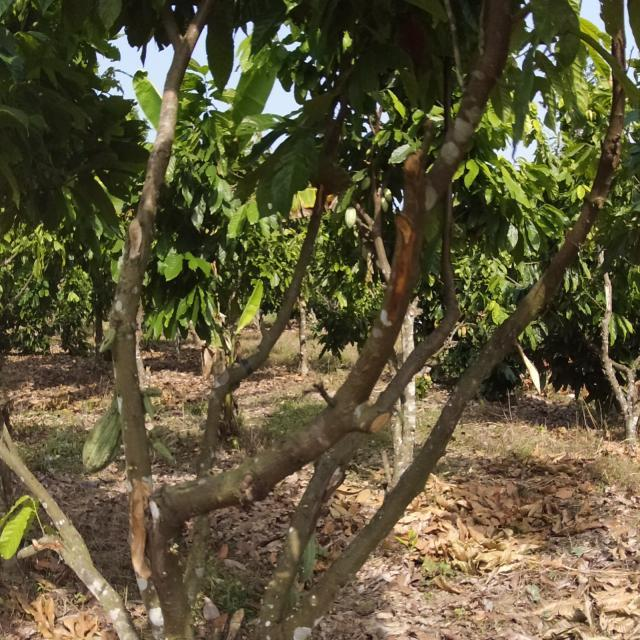Immature: (148, 430, 178, 470), (139, 381, 165, 422), (98, 323, 120, 355)
Mature_Unripe: (79, 396, 131, 476)
